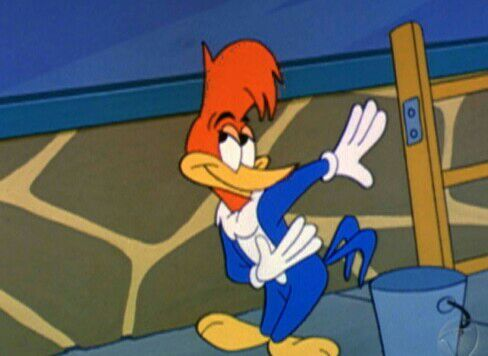picapau: (164, 29, 392, 356)
